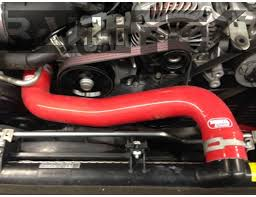radiator_hose: (22, 65, 248, 159)
